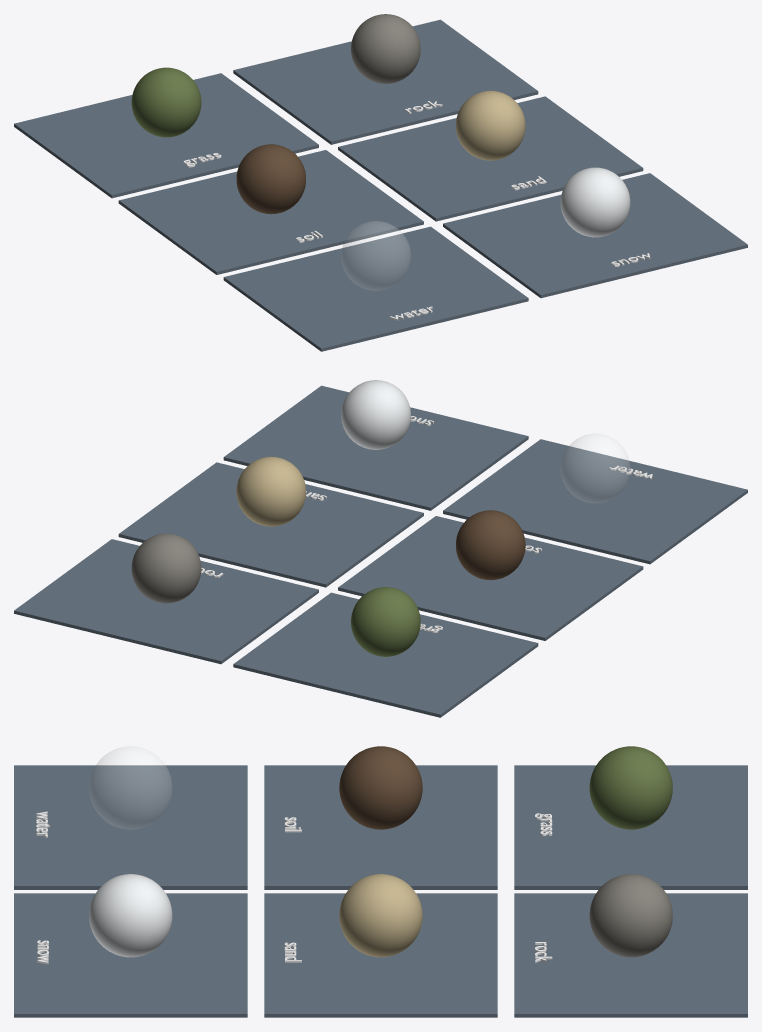
Rendered from mat_presets_ground.glb.
3 views of the same model, one above another, from view 1: azimuth 30°, elevation 25°; view 2: azimuth 150°, elevation 25°; view 3: azimuth 270°, elevation 25° (orthographic). The views are drawn at different scales.
Visible parts, largest first — view 1: tile, snow, grass, rock, sand, soil, water, label; view 2: tile, rock, snow, grass, sand, soil, water, label; view 3: tile, soil, snow, rock, sand, grass, water, label.
Part boxes in pixels (<box>): tile: <box>14,19,747,351</box>; snow: <box>560,167,630,237</box>; grass: <box>131,67,201,137</box>; rock: <box>351,14,420,83</box>; sand: <box>456,90,525,160</box>; soil: <box>236,144,305,214</box>; water: <box>341,221,410,290</box>; label: <box>183,101,650,320</box>; tile: <box>14,385,747,717</box>; rock: <box>131,533,201,603</box>; snow: <box>341,380,410,449</box>; grass: <box>351,587,420,656</box>; sand: <box>236,456,305,526</box>; soil: <box>456,510,525,580</box>; water: <box>561,434,629,502</box>; label: <box>201,416,652,632</box>; tile: <box>14,765,747,1017</box>; soil: <box>339,746,422,829</box>; snow: <box>89,874,172,957</box>; rock: <box>589,874,672,957</box>; sand: <box>339,874,422,957</box>; grass: <box>589,746,672,829</box>; water: <box>89,746,171,829</box>; label: <box>36,811,552,964</box>.
Size of the model in its own units: 0.282 by 0.042 by 0.352.
